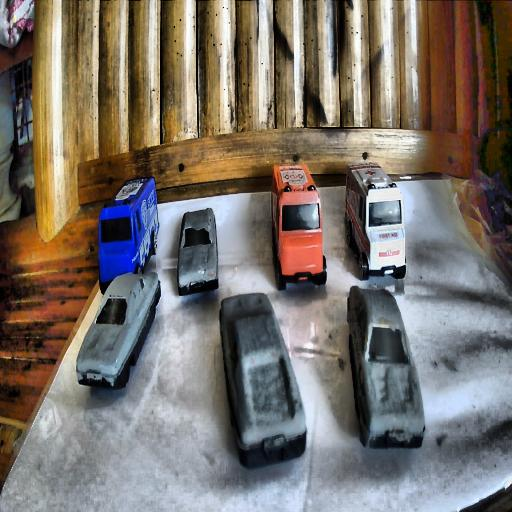ambulance: (344, 160, 406, 282)
fire_truck: (270, 162, 328, 290)
normal_car: (219, 293, 305, 468), (346, 284, 425, 448), (74, 268, 161, 392), (177, 207, 220, 297)
police car: (97, 175, 159, 293)
